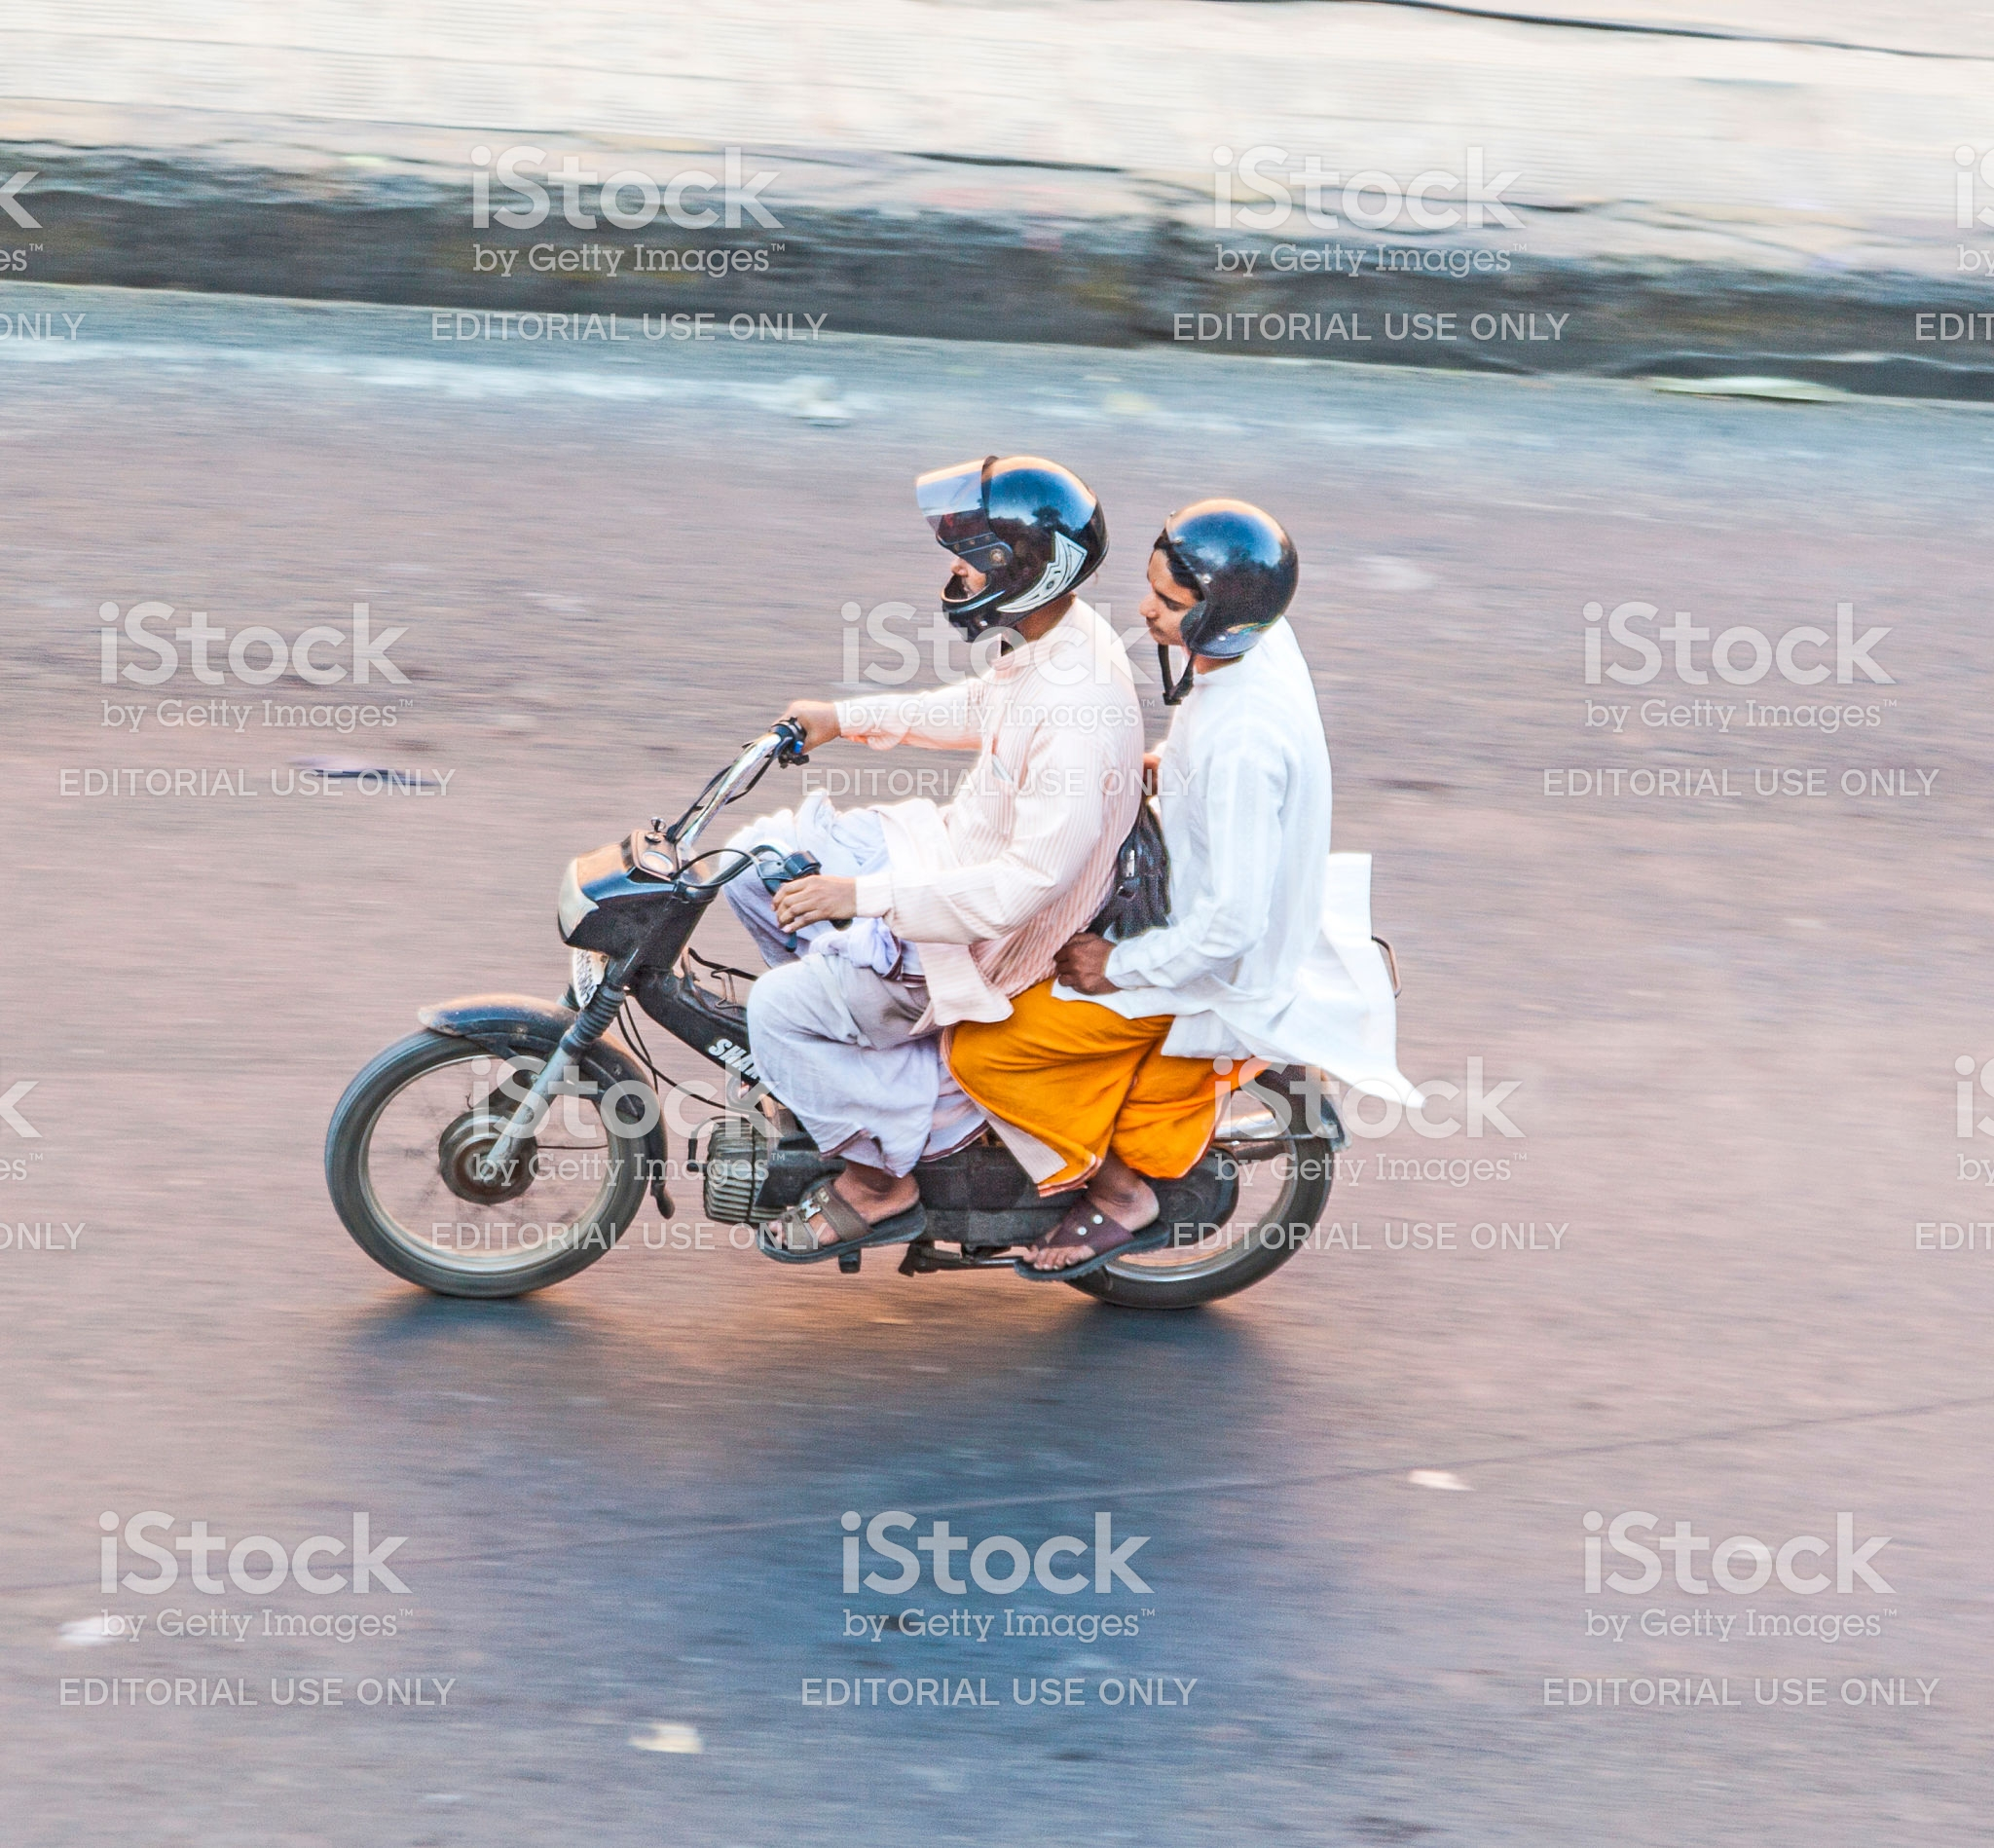helmet: (919, 441, 1096, 622), (1152, 500, 1317, 641)
